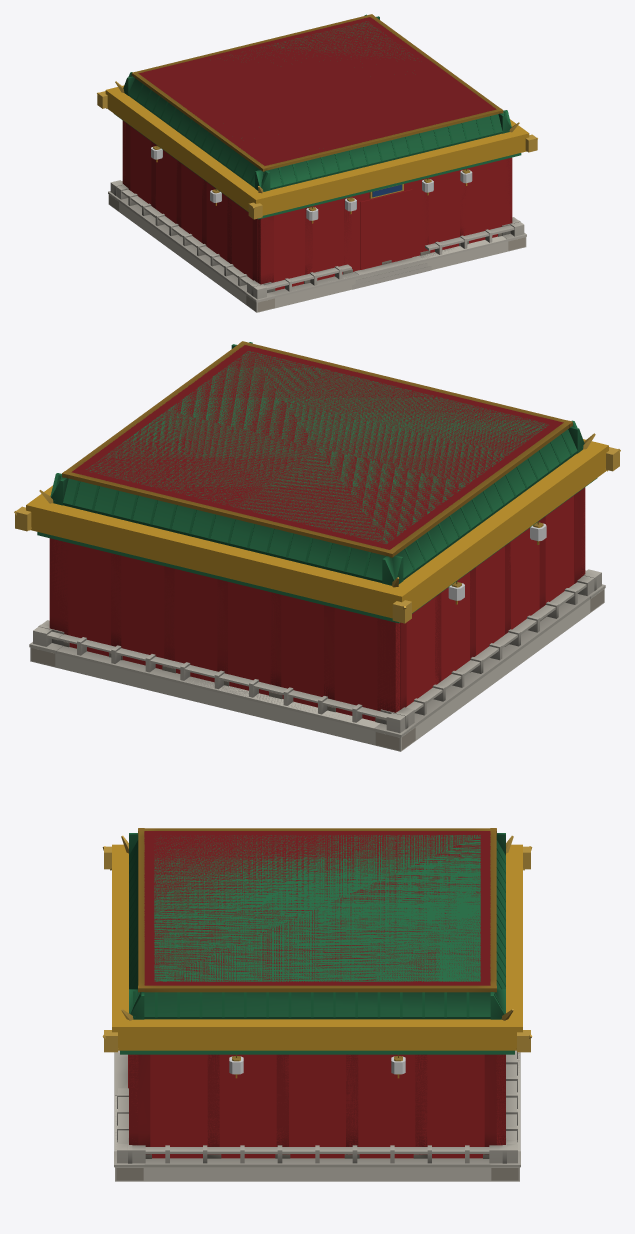
Rendered from TerracottaWarriorFloor.fbx.
3 views of the same model, one above another, from view 1: azimuth 30°, elevation 25°; view 2: azimuth 150°, elevation 25°; view 3: azimuth 270°, elevation 25° (orthographic). The views are drawn at different scales.
Parts seen in each view (by area): view 1: TW_S_All, TW_F_Smooth, TW_F_Glass, TW_F_Quiet; view 2: TW_S_All, TW_F_Smooth, TW_F_Quiet; view 3: TW_S_All, TW_F_Smooth, TW_F_Quiet.
Part boxes in pixels (left/top/right/bottom): TW_S_All: left=97, top=17, right=537, bottom=312; TW_F_Smooth: left=97, top=14, right=537, bottom=302; TW_F_Glass: left=151, top=147, right=472, bottom=220; TW_F_Quiet: left=109, top=195, right=525, bottom=311; TW_S_All: left=15, top=345, right=619, bottom=751; TW_F_Smooth: left=14, top=341, right=620, bottom=737; TW_F_Quiet: left=31, top=589, right=604, bottom=750; TW_S_All: left=104, top=831, right=530, bottom=1181; TW_F_Smooth: left=102, top=828, right=532, bottom=1167; TW_F_Quiet: left=116, top=1168, right=518, bottom=1180.
Bounding box in the file's own units: 60 × 20 × 60.
